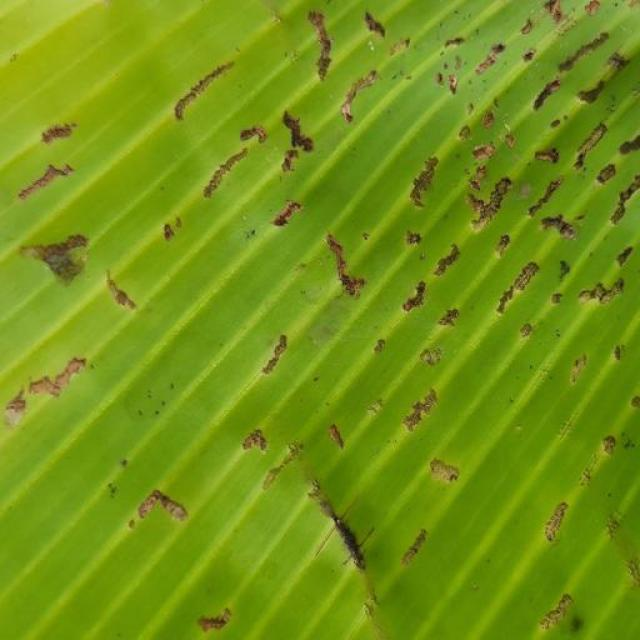Black_rot: (147, 0, 640, 640), (0, 87, 148, 529)
